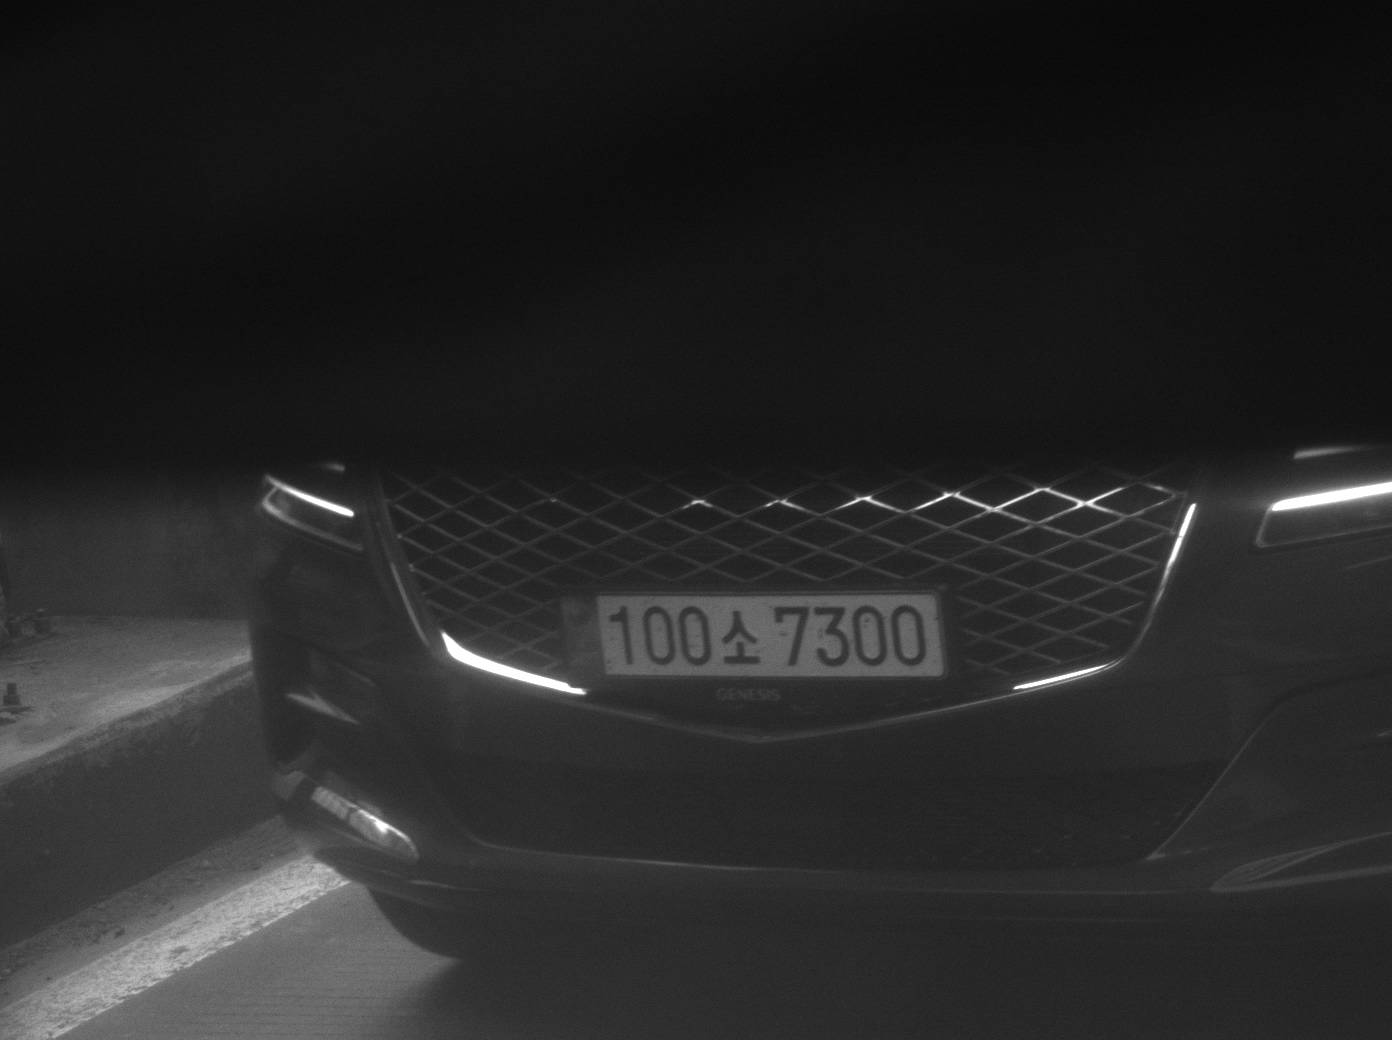car: (247, 459, 1392, 1018)
plate: (557, 591, 948, 678)
